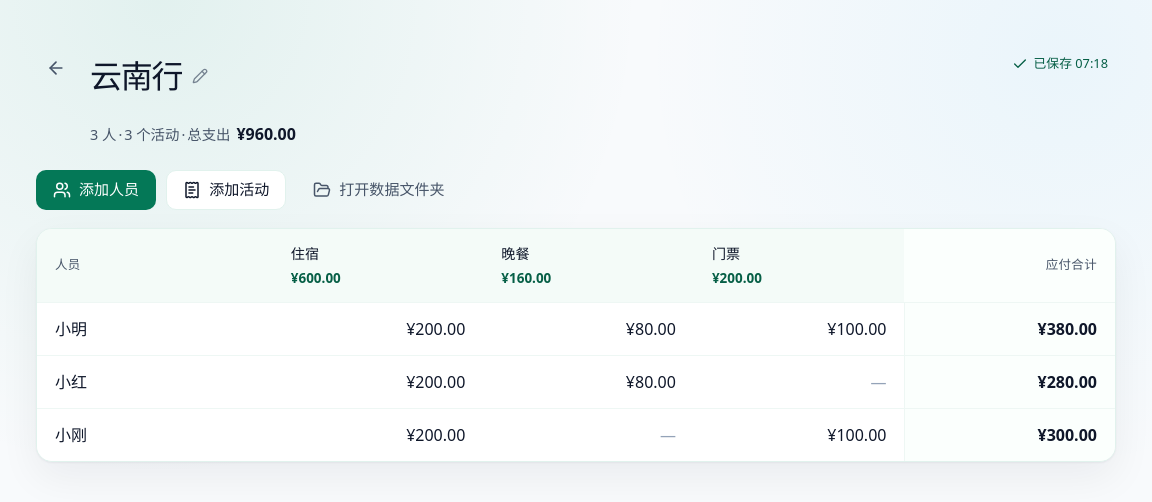
Test: ProjectScreen › restores the saved title with Escape after a failed rename
The image size is (1152, 502).
Click the button with aria-label "编辑项目名称".
click(153, 76)  # box [90,48,216,104]
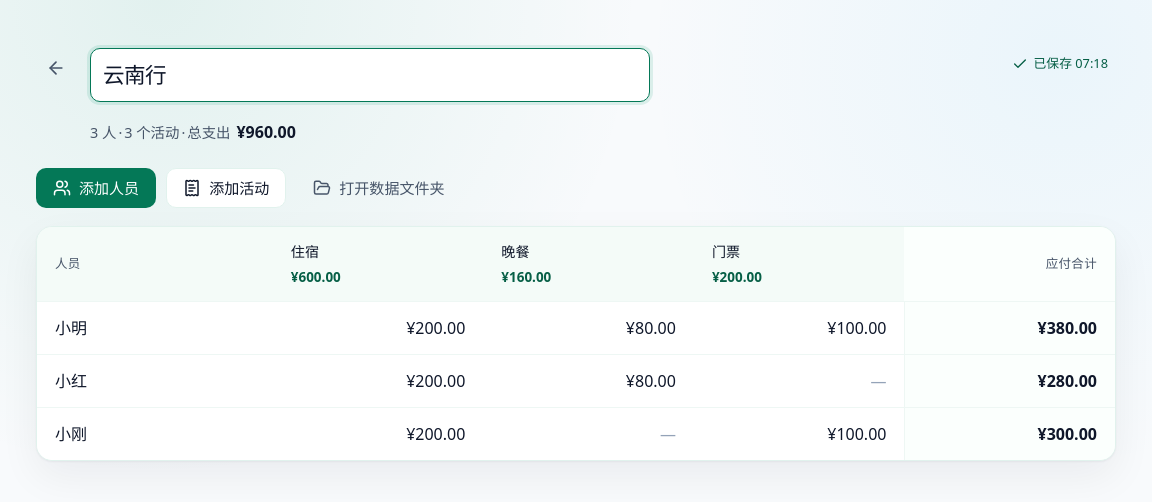
Replace the text in the field named "项目名称" with "已有项目" at [370, 75], box [90,48,650,102]
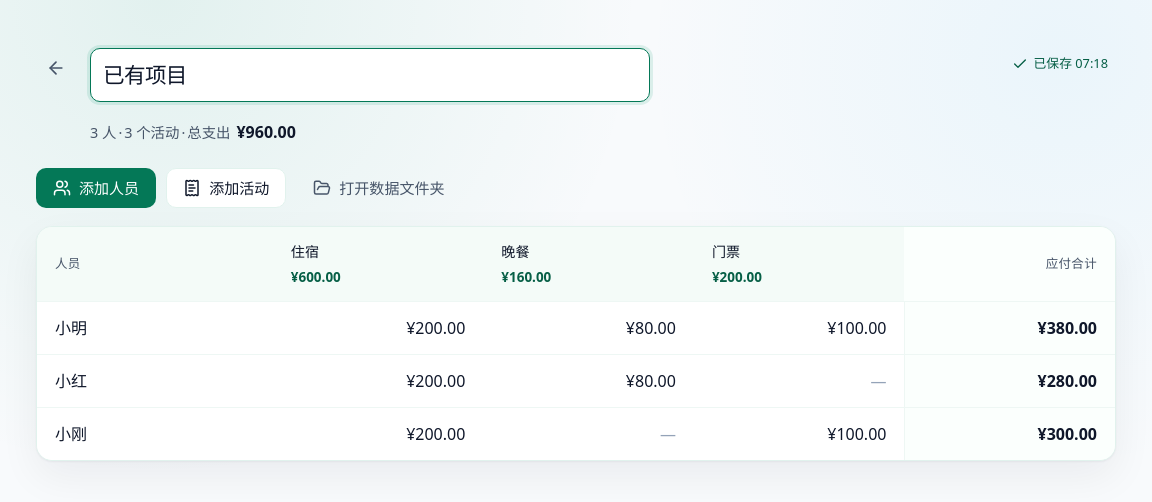
Press Enter
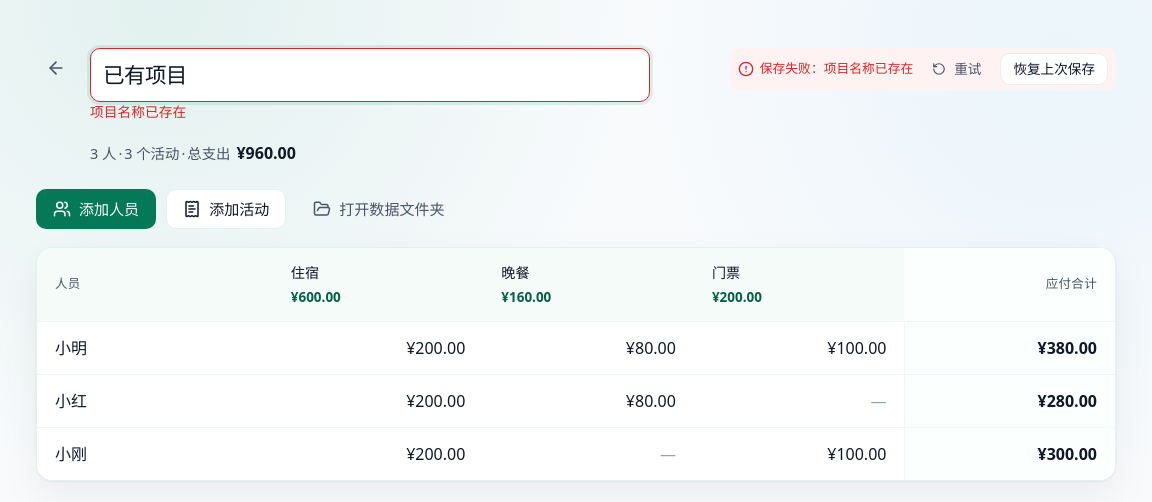
Expected: the message "项目名称已存在" is shown, [90,102,186,121]
Press Escape
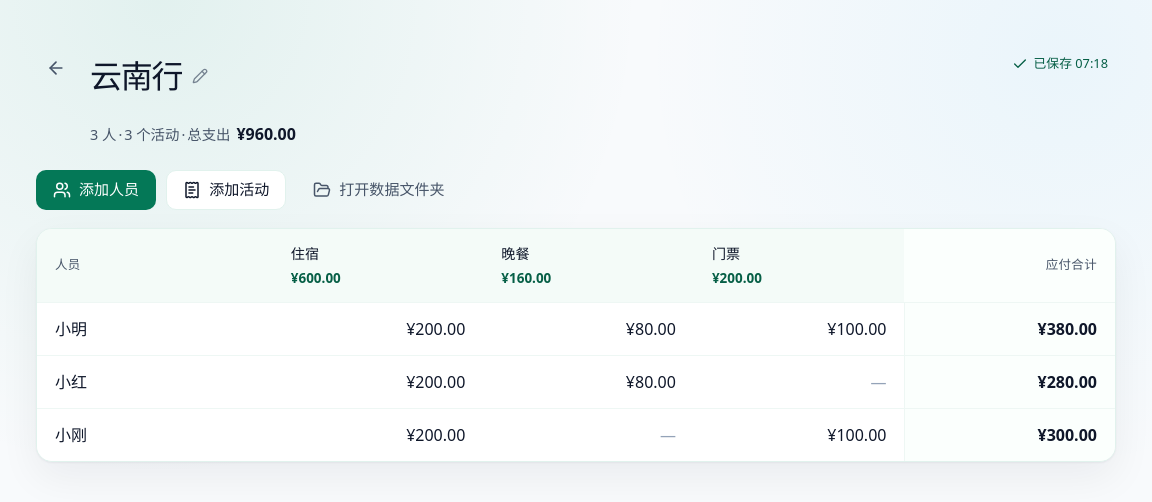
Expected: the button with aria-label "编辑项目名称" reads "云南行", [90,48,216,104]
Expected: the message labelled "项目名称" is gone
Expected: the button "恢复上次保存" is gone
